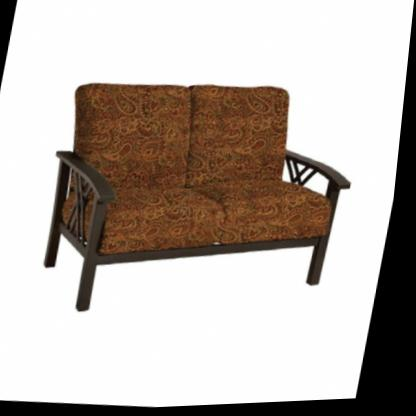Sofa: (30, 67, 374, 335)
